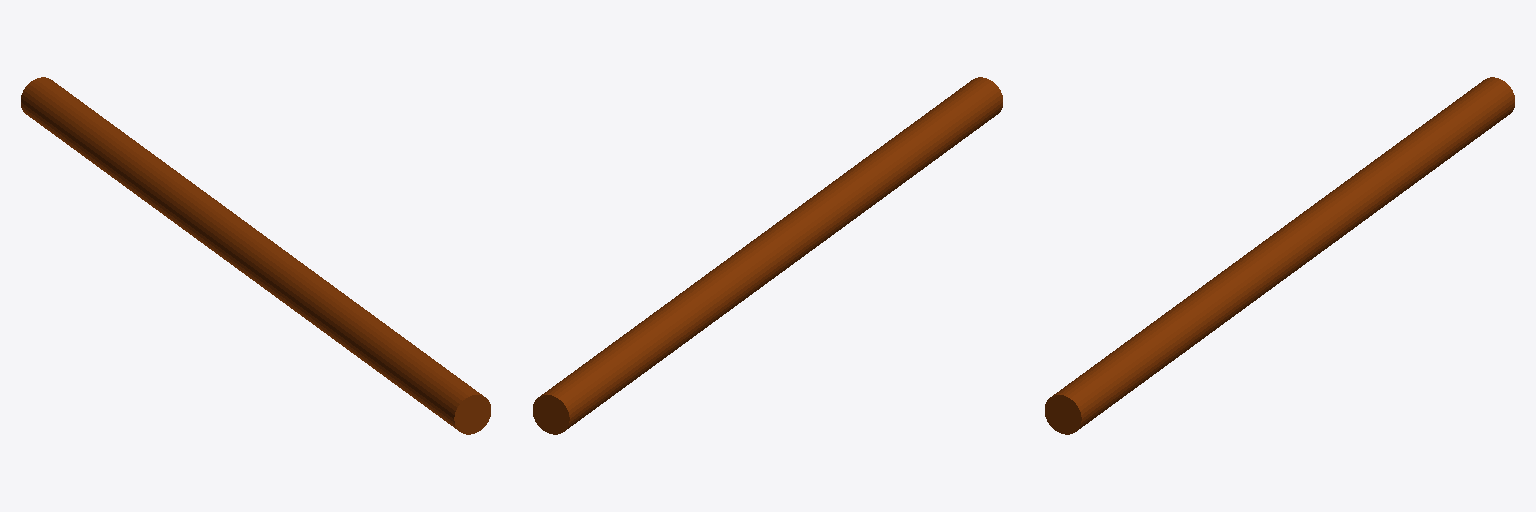
robot.urdf — cylinder:
<?xml version="1.0" ?>
<!-- =================================================================================== -->
<!-- |    This document was autogenerated by xacro from cylinder.xacro                 | -->
<!-- |    EDITING THIS FILE BY HAND IS NOT RECOMMENDED                                 | -->
<!-- =================================================================================== -->
<robot name="cylinder">
  <link name="world"/>
  <link name="base">
    <visual>
      <origin rpy="1.57079633 0 0" xyz="0 0 0"/>
      <geometry>
        <cylinder length="7.07106781185" radius="0.175"/>
      </geometry>
      <material name="cylinder_material">
        <color rgba="0.545 0.271 0.075 1.0"/>
        <texture filename="../textures/tree_bark.jpg"/>
      </material>
    </visual>
    <collision>
      <origin rpy="1.57079633 0 0" xyz="0 0 0"/>
      <geometry>
        <cylinder length="7.07106781185" radius="0.175"/>
      </geometry>
    </collision>
    <inertial>
      <origin rpy="0 0 0" xyz="0 0 0"/>
      <mass value="1"/>
      <inertia ixx="4.174322916648428" ixy="0.0" ixz="0.0" iyy="4.174322916648428" iyz="0.0" izz="24.999999999890573"/>
    </inertial>
  </link>
  <joint name="base_joint" type="fixed">
    <parent link="world"/>
    <child link="base"/>
    <origin rpy="0 0 0" xyz="0.0 0.0 0.0"/>
  </joint>
</robot>

--- What the picture shows (computed from the rendered views, not written in the file) ---
The picture shows the robot from 3 angles, left to right: view 1: azimuth 30°, elevation 25°; view 2: azimuth 150°, elevation 25°; view 3: azimuth 330°, elevation 25°; orthographic projection.
Robot: cylinder — 2 links, 1 joints (1 fixed); root link world; default pose: all joints at 0.
Visible links, largest first — view 1: base; view 2: base; view 3: base.
Link boxes in pixels (<box>): base: <box>21,77,490,434</box>; base: <box>533,77,1002,434</box>; base: <box>1045,77,1514,434</box>.
Size in the robot's own frame: 0.35 by 7.07 by 0.35 metres.
Geometry: primitives only (box / cylinder / sphere), no mesh files.
